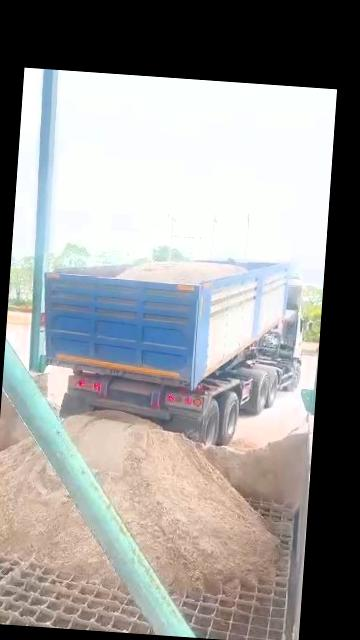sand: (64, 412, 277, 591), (0, 438, 116, 582), (202, 425, 306, 508), (116, 261, 246, 284), (0, 391, 28, 451), (232, 438, 259, 451)
